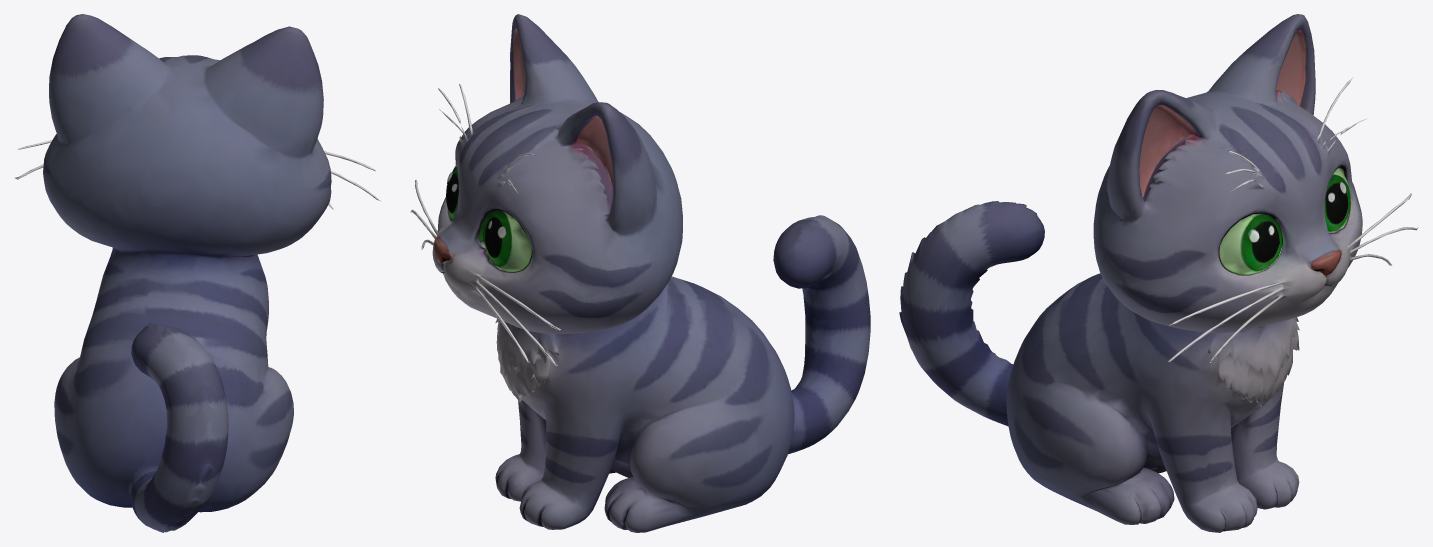
Rendered from cat.glb.
3 views of the same model, side by side, from view 1: azimuth 30°, elevation 25°; view 2: azimuth 150°, elevation 25°; view 3: azimuth 270°, elevation 25° (orthographic). The views are drawn at different scales.
Parts seen in each view (by area): view 1: tripo_node_c0c2b650-5210-44f2-b1f3-9e9082d9a715; view 2: tripo_node_c0c2b650-5210-44f2-b1f3-9e9082d9a715; view 3: tripo_node_c0c2b650-5210-44f2-b1f3-9e9082d9a715.
Part boxes in pixels (x1,y1,x2,y2): tripo_node_c0c2b650-5210-44f2-b1f3-9e9082d9a715: (15, 14, 381, 532); tripo_node_c0c2b650-5210-44f2-b1f3-9e9082d9a715: (410, 14, 870, 532); tripo_node_c0c2b650-5210-44f2-b1f3-9e9082d9a715: (899, 14, 1418, 532).
Bounding box in the file's own units: 0.2042 × 0.25 × 0.2598.
Materials: 1 (1 with a texture image).
